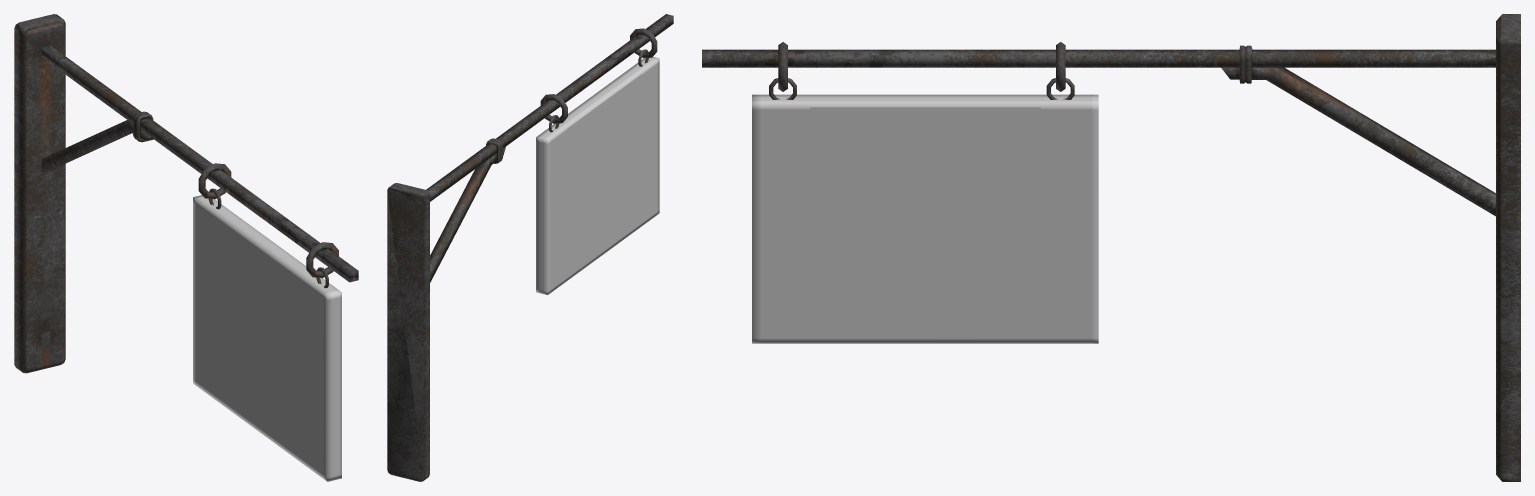
The model's file is SignPub_mdl.fbx.
3 views of the same model, side by side, from view 1: azimuth 30°, elevation 25°; view 2: azimuth 150°, elevation 25°; view 3: azimuth 270°, elevation 25° (orthographic). The views are drawn at different scales.
Visible parts, largest first — view 1: SignPub_LOD0; view 2: SignPub_LOD0; view 3: SignPub_LOD0.
Boxes of the visible parts, <box> form: SignPub_LOD0: <box>14,14,358,481</box>; SignPub_LOD0: <box>387,14,673,481</box>; SignPub_LOD0: <box>702,14,1520,481</box>.
Bounding box in the file's own units: 16.19 × 121 × 202.
